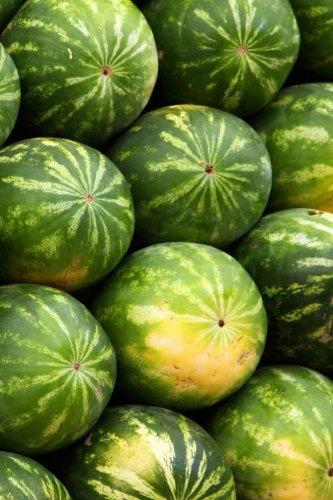dua_hau: (98, 240, 269, 413), (114, 105, 274, 244)
